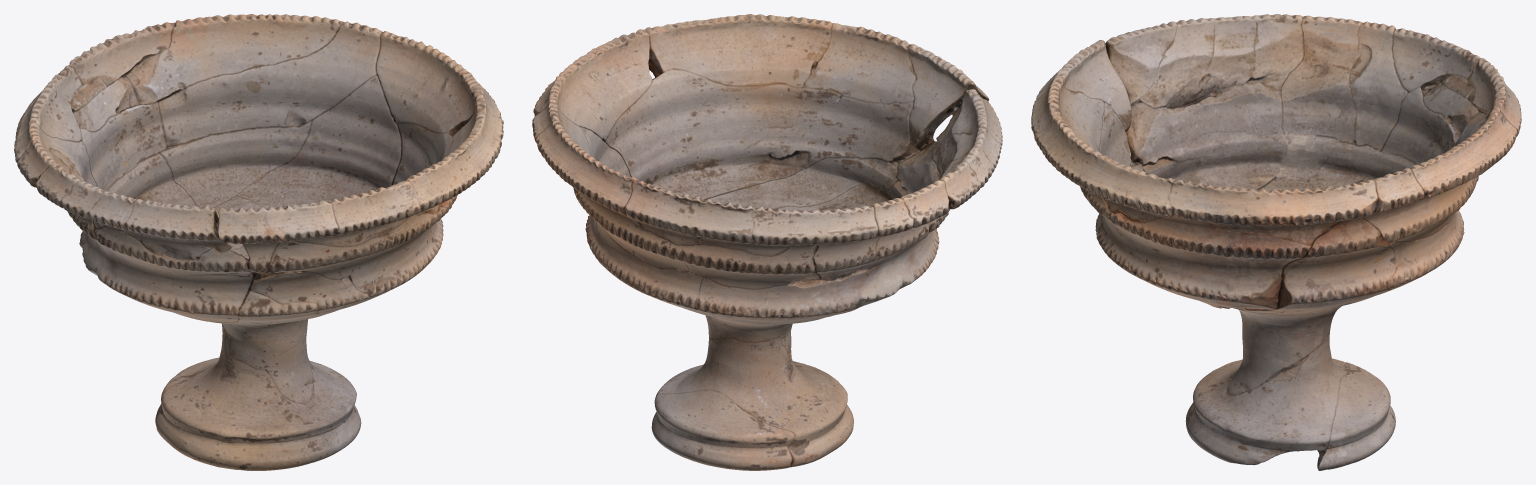
The model's file is incense_bowl1k.glb.
The picture shows the model from 3 angles, left to right: view 1: azimuth 30°, elevation 25°; view 2: azimuth 150°, elevation 25°; view 3: azimuth 270°, elevation 25°; orthographic projection. The views are drawn at different scales.
Visible parts, largest first — view 1: Object_2, Object_4, Object_3, Object_5; view 2: Object_3, Object_4, Object_2, Object_5; view 3: Object_2, Object_3, Object_4, Object_5.
Part boxes in pixels (x1,y1,x2,y2): Object_2: [81, 14, 481, 467]; Object_4: [14, 25, 503, 470]; Object_3: [20, 63, 502, 403]; Object_5: [85, 14, 324, 371]; Object_3: [580, 14, 999, 394]; Object_4: [584, 14, 1002, 470]; Object_2: [532, 36, 908, 470]; Object_5: [561, 144, 850, 457]; Object_2: [1066, 76, 1519, 470]; Object_3: [1031, 14, 1429, 394]; Object_4: [1059, 14, 1521, 464]; Object_5: [1288, 93, 1521, 470].
Bounding box in the file's own units: 0.175 × 0.1313 × 0.1736.
Materials: 1 (1 with a texture image).
